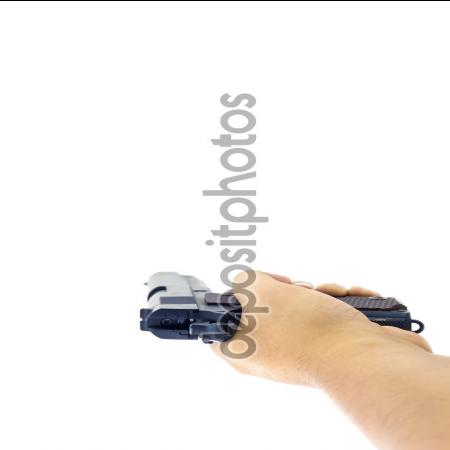Pistol: (139, 262, 423, 353)
